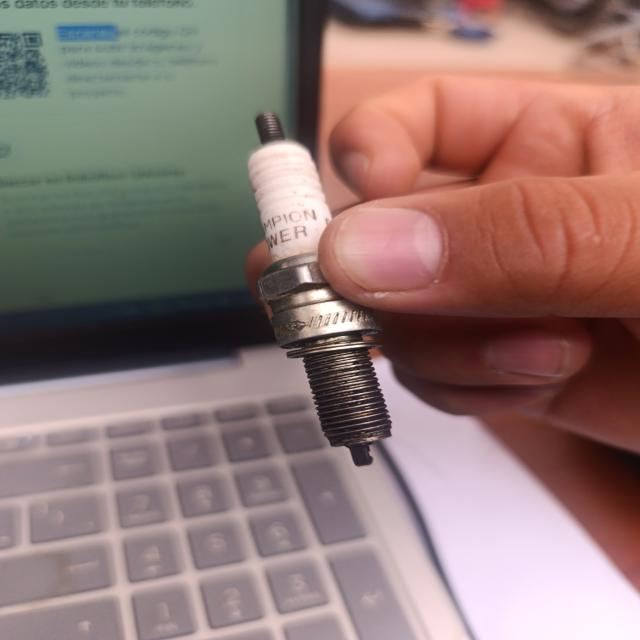bujia: (248, 112, 391, 466)
